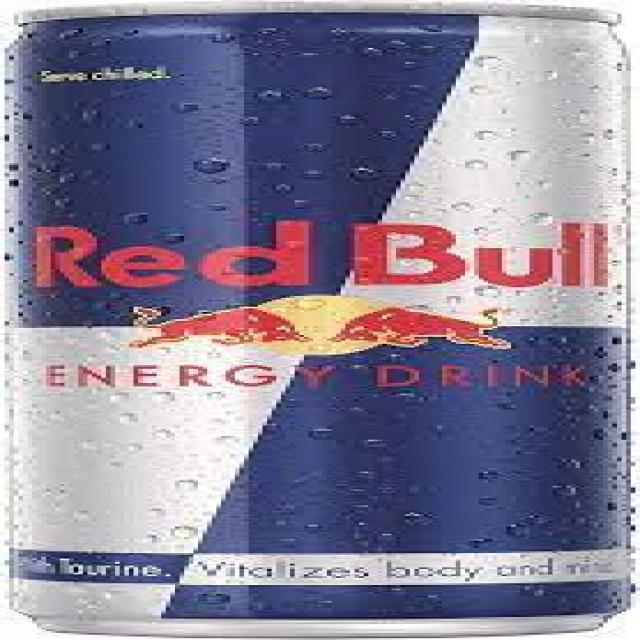Cans: (4, 2, 622, 638)
